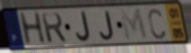C: (147, 7, 167, 41)
H: (17, 10, 48, 47)
J: (75, 10, 92, 43), (99, 10, 115, 42)
M: (118, 7, 150, 42)
R: (39, 11, 68, 45)
